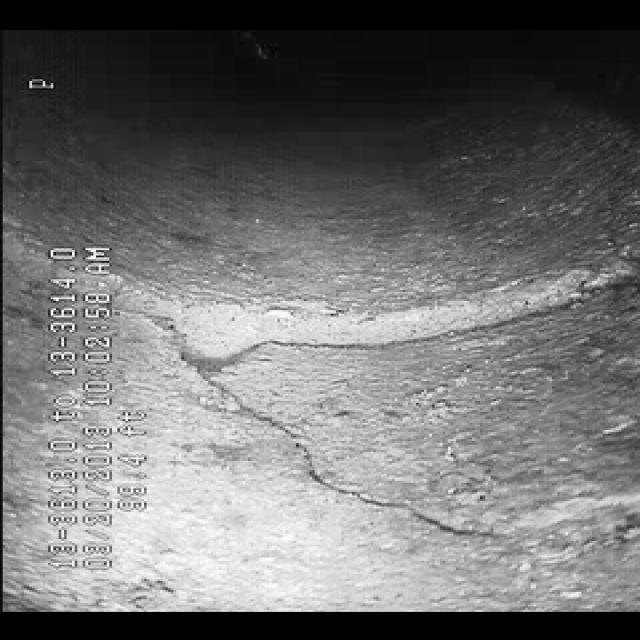Crack: (201, 404, 484, 540)
